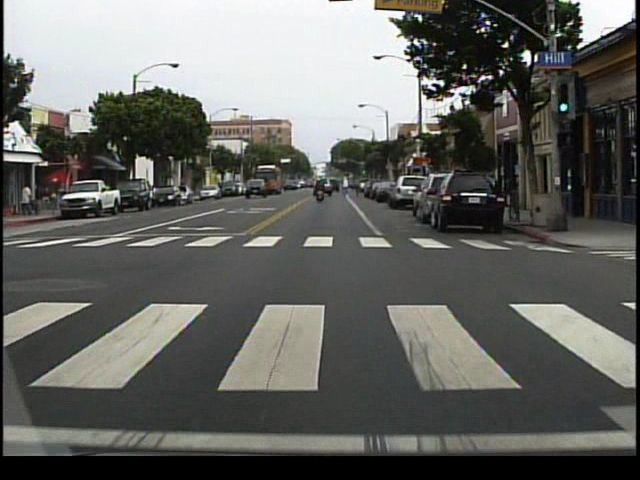person: (21, 182, 36, 219), (314, 181, 327, 208)
